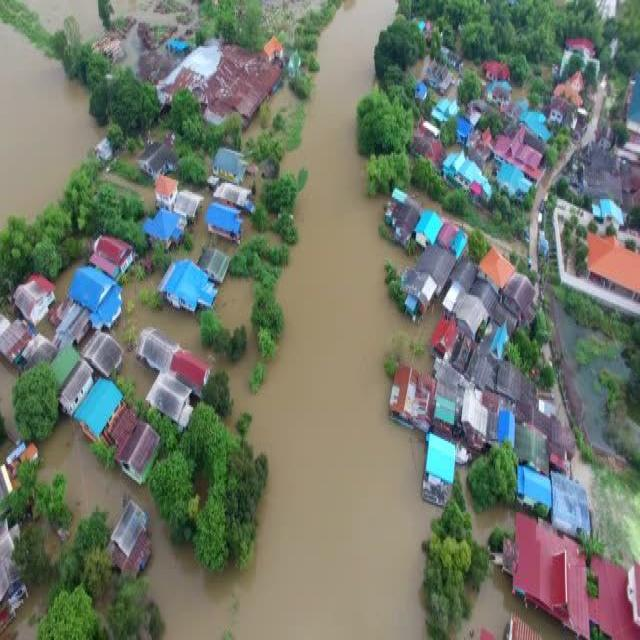flooded_areas: (5, 4, 514, 638)
